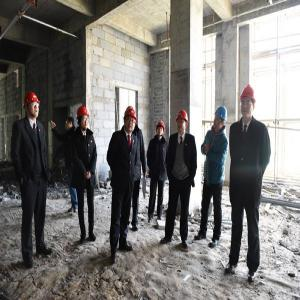blue: (212, 105, 228, 131)
none: (64, 116, 76, 133)
red: (240, 85, 256, 119), (23, 91, 41, 120), (124, 109, 139, 135), (77, 105, 90, 131), (176, 110, 190, 134), (156, 121, 166, 138)
